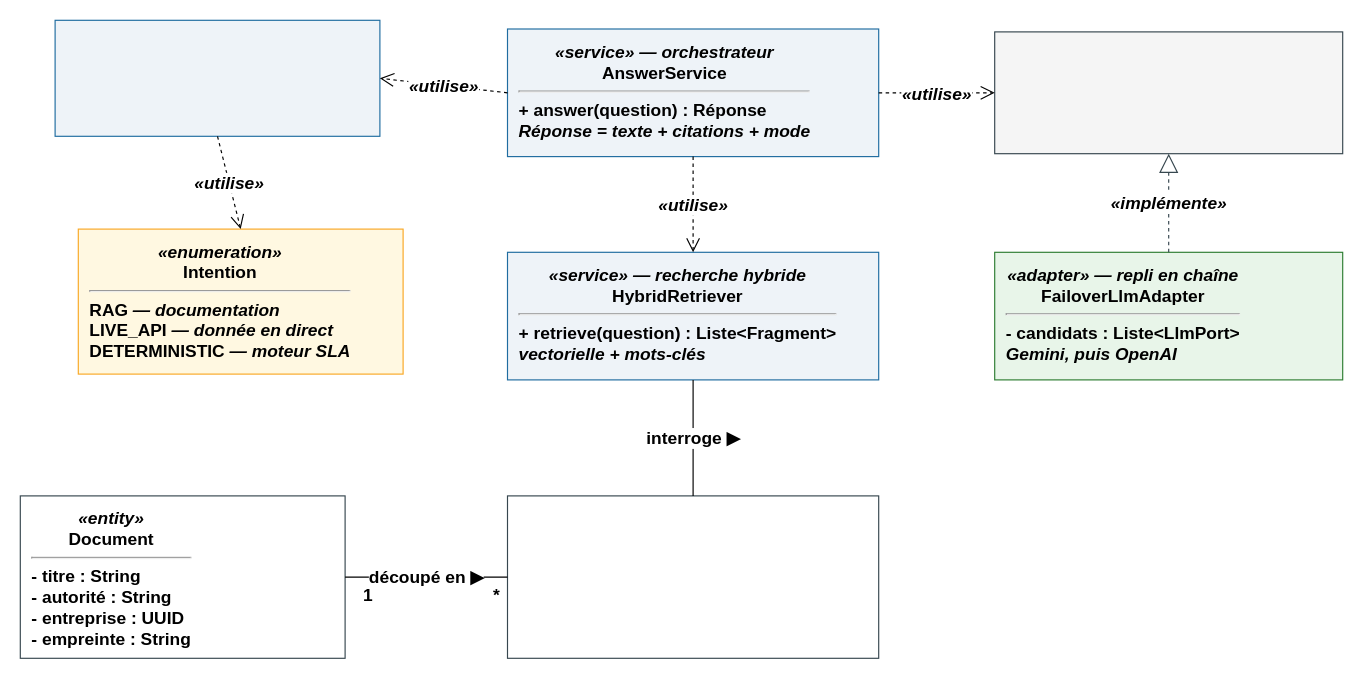
This 1363x679 diagram has some shape labels left out. Here are the shapes that lost their labels. From the top down, the centre of each, then its label:
the point at 217,77: «service» IntentRouter + route(question) : Intention
the point at 1168,92: «interface» (port) LlmPort + complete(consigne, question) : String
the point at 692,576: «entity» Fragment - section : String - contenu : Texte - vecteur : Vecteur(1536)
